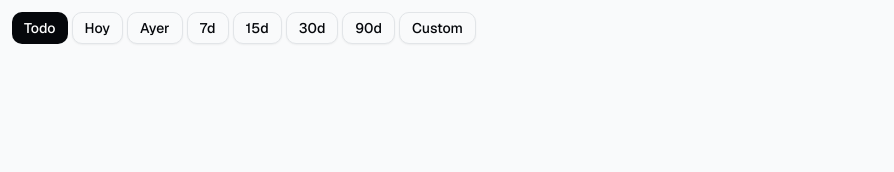
Test: rango con UNA sola punta › en cuanto se carga una punta, el botón se habilita
The width and height of the screenshot is (894, 172).
Click the button "Custom" at (438, 28), box [399,12,476,44]
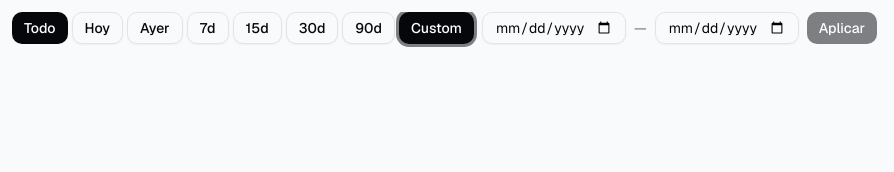
Check: the button "Aplicar" is disabled, box [807,12,877,44]
Type "2026-08-01" into the 1st date field at (554, 28), box [482,12,626,44]
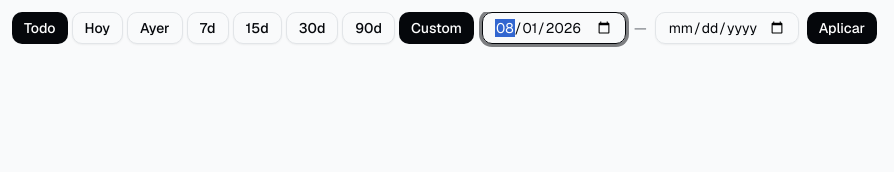
Check: the button "Aplicar" is enabled, box [807,12,877,44]
